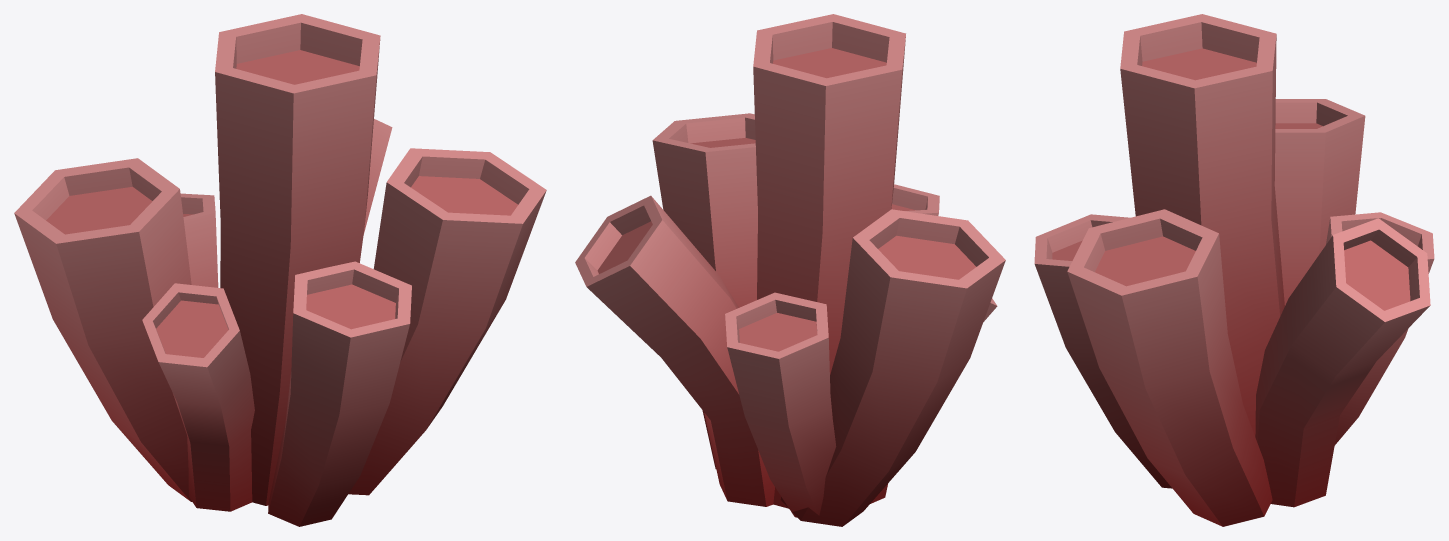
The model's file is CoralReef_05.fbx.
3 views of the same model, side by side, from view 1: azimuth 30°, elevation 25°; view 2: azimuth 150°, elevation 25°; view 3: azimuth 270°, elevation 25° (orthographic). The views are drawn at different scales.
Parts seen in each view (by area): view 1: CoralReef_05_LOD0; view 2: CoralReef_05_LOD0; view 3: CoralReef_05_LOD0.
Boxes of the visible parts, x1=… form: CoralReef_05_LOD0: x1=14, y1=14, x2=546, y2=526; CoralReef_05_LOD0: x1=575, y1=14, x2=1005, y2=526; CoralReef_05_LOD0: x1=1034, y1=14, x2=1434, y2=526.
Size of what is drawn, in the model's own units: 0.2463 by 0.2533 by 0.2129.
